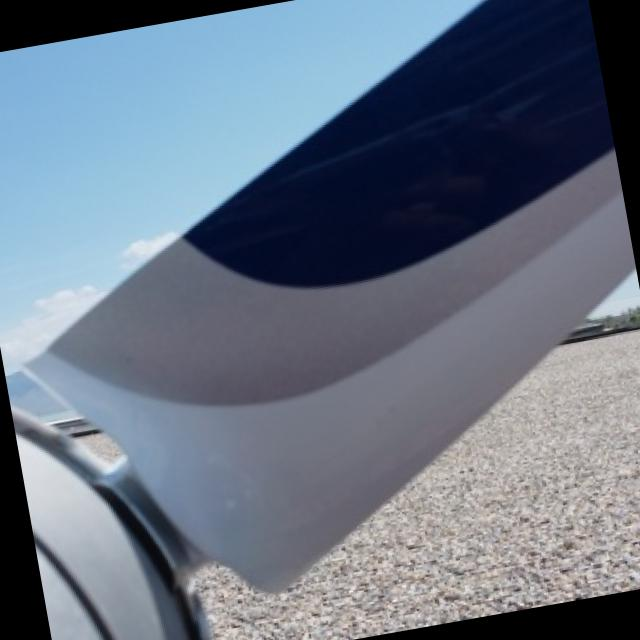healthy: (24, 451, 201, 640)
